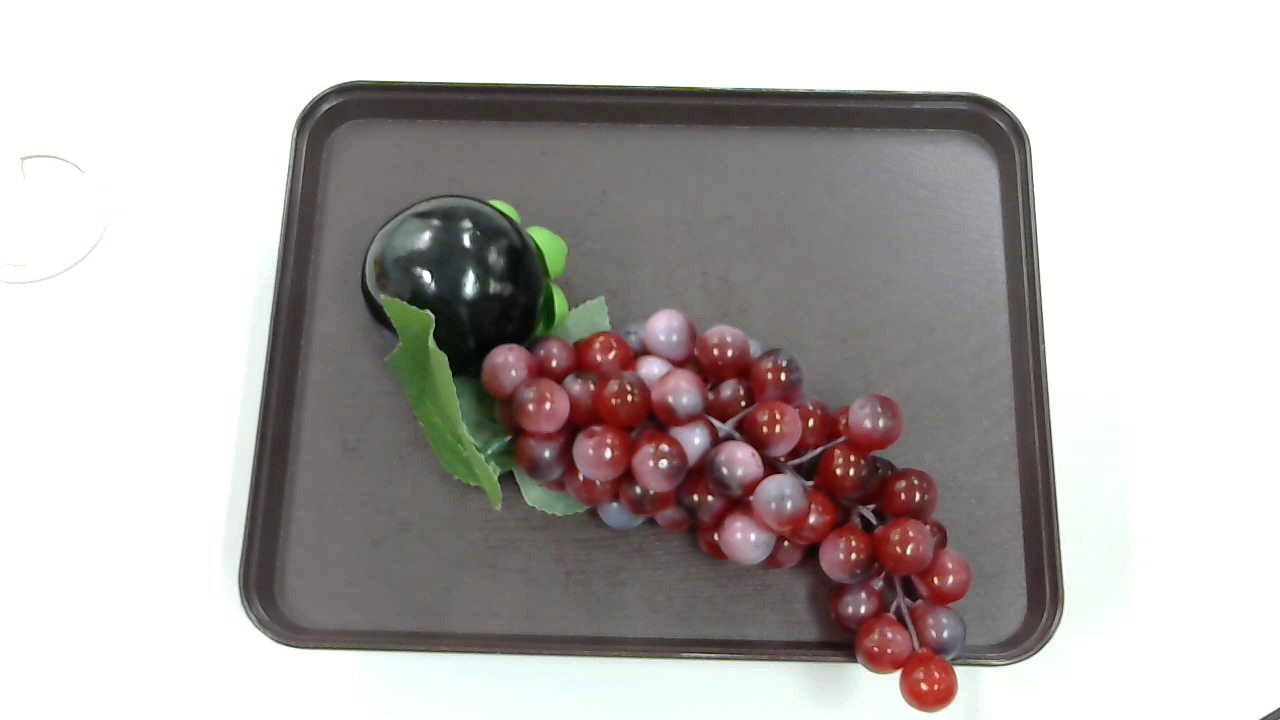grape: (369, 281, 974, 715)
mangosteen: (362, 190, 576, 361)
